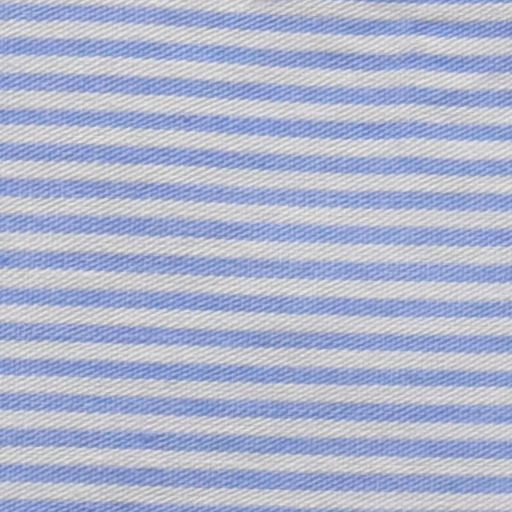defect: (241, 1, 278, 21)
